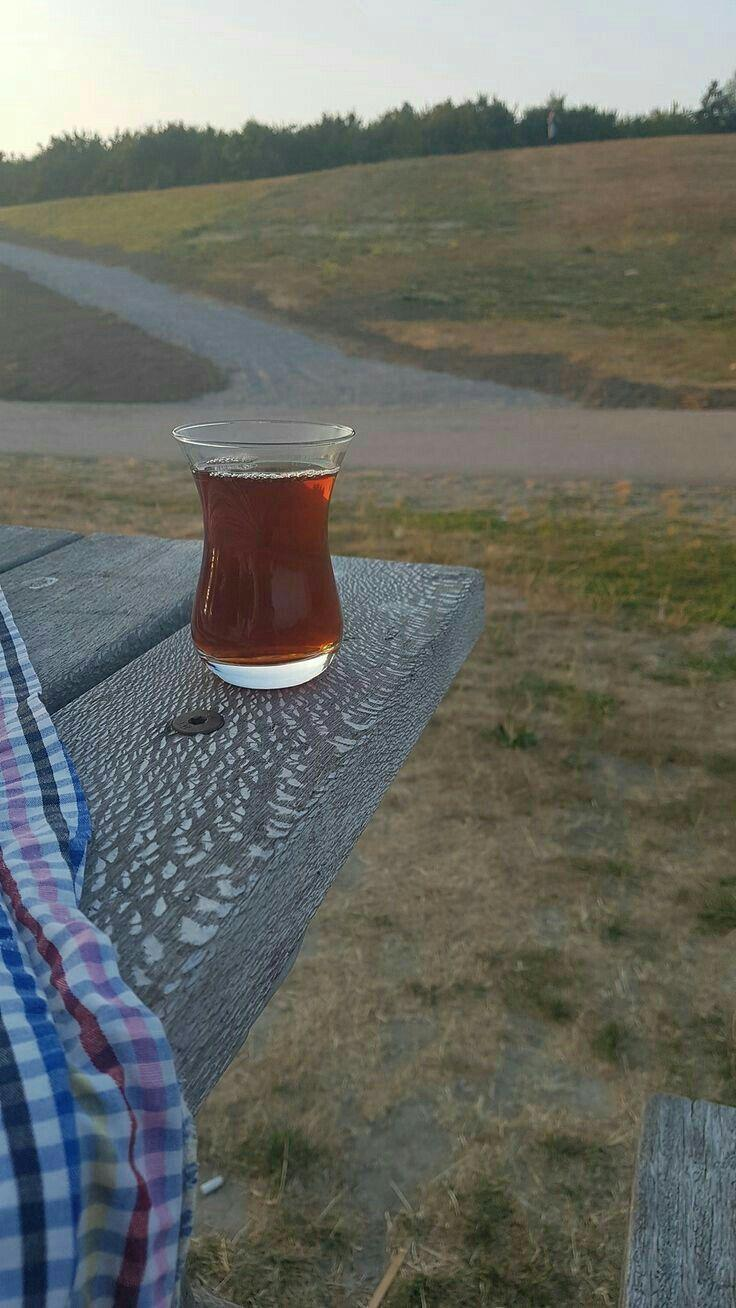glass-normal: (173, 415, 359, 692)
